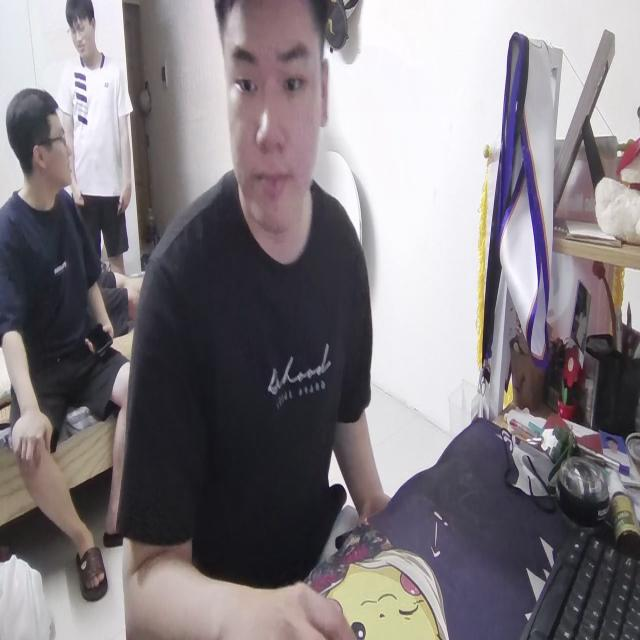extra_person: (1, 86, 133, 589), (53, 0, 135, 289)
student: (120, 0, 400, 640)
